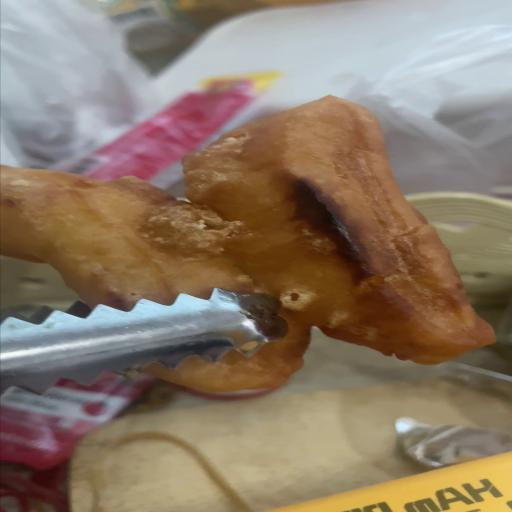street_burnt_defect: (0, 96, 487, 391)
